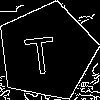T: (21, 27, 58, 76)
